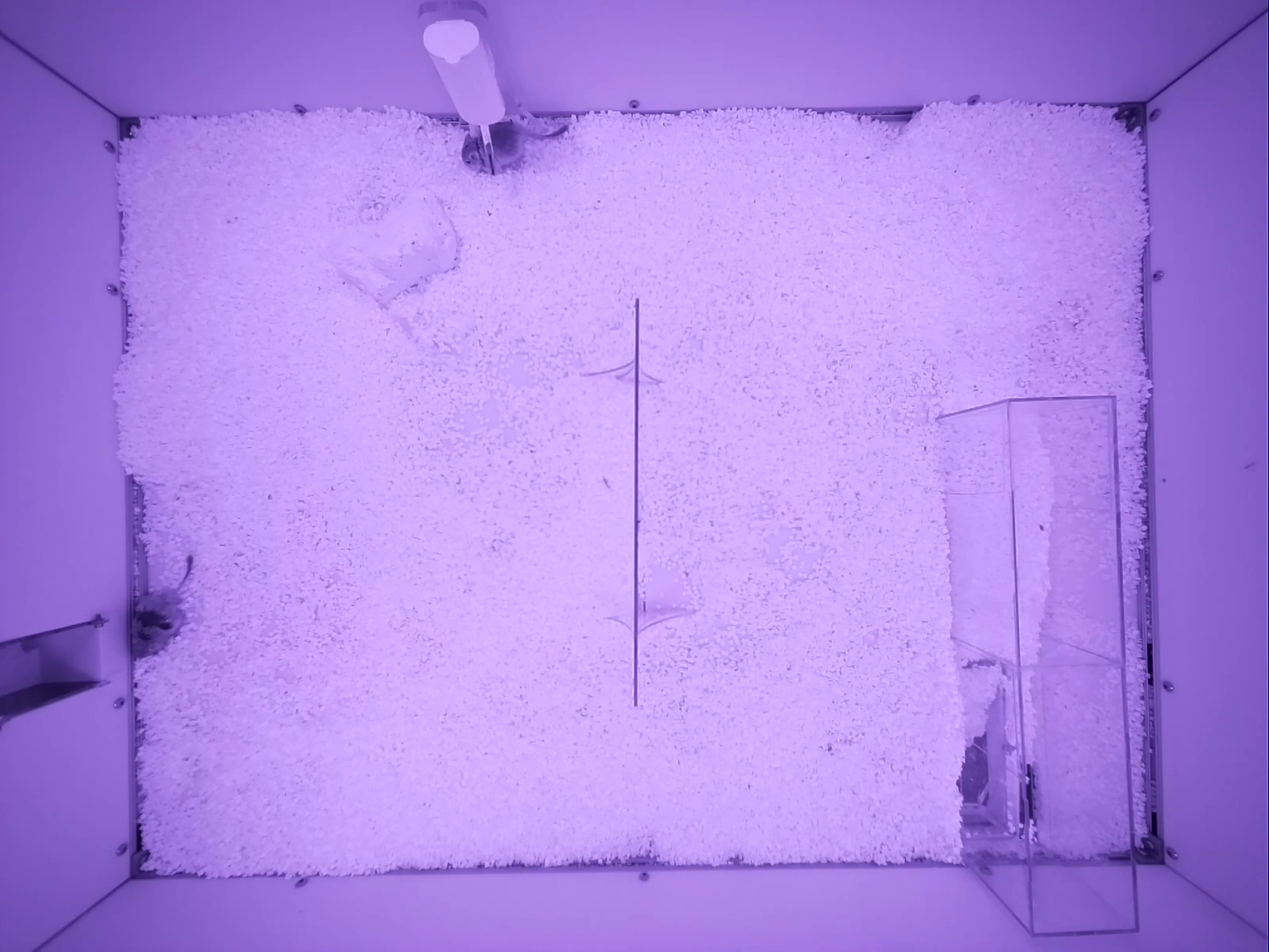adult_back: (132, 555, 193, 656), (461, 117, 566, 174)
